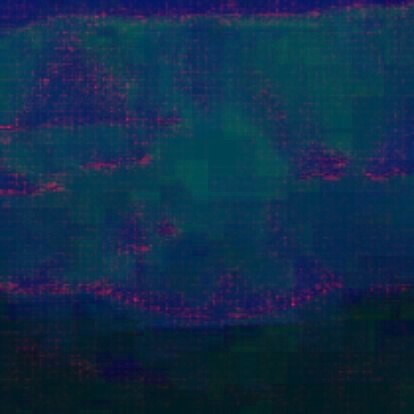rip_current: (97, 54, 316, 354)
